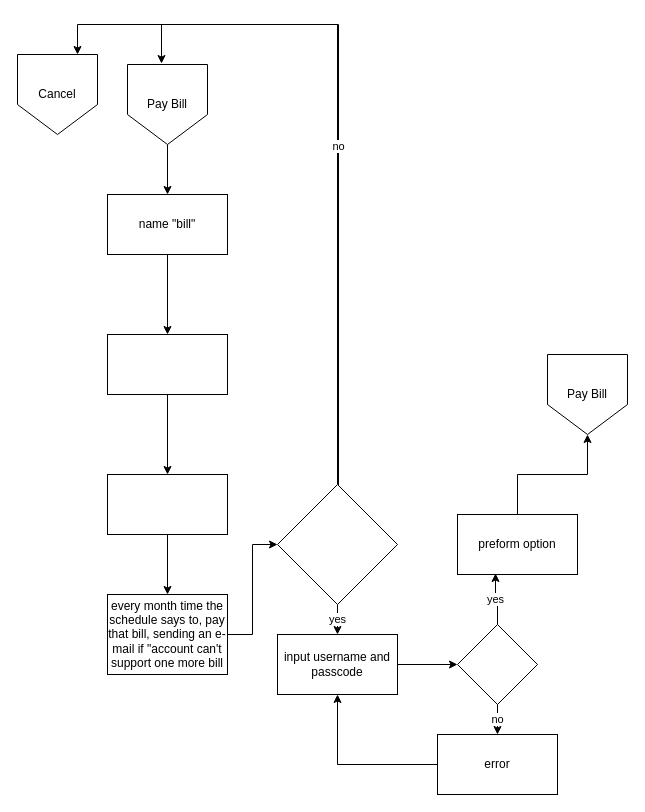
The diagram is 645 pixels wide and 812 high, and some of its shapes have lost their labels. Each missing label, with the centre of its shape:
confirm is bill correct?: (337,544)
is code correct: (497,664)
set up schedule for "bill": (167,364)
set up where to pay: (167,504)
